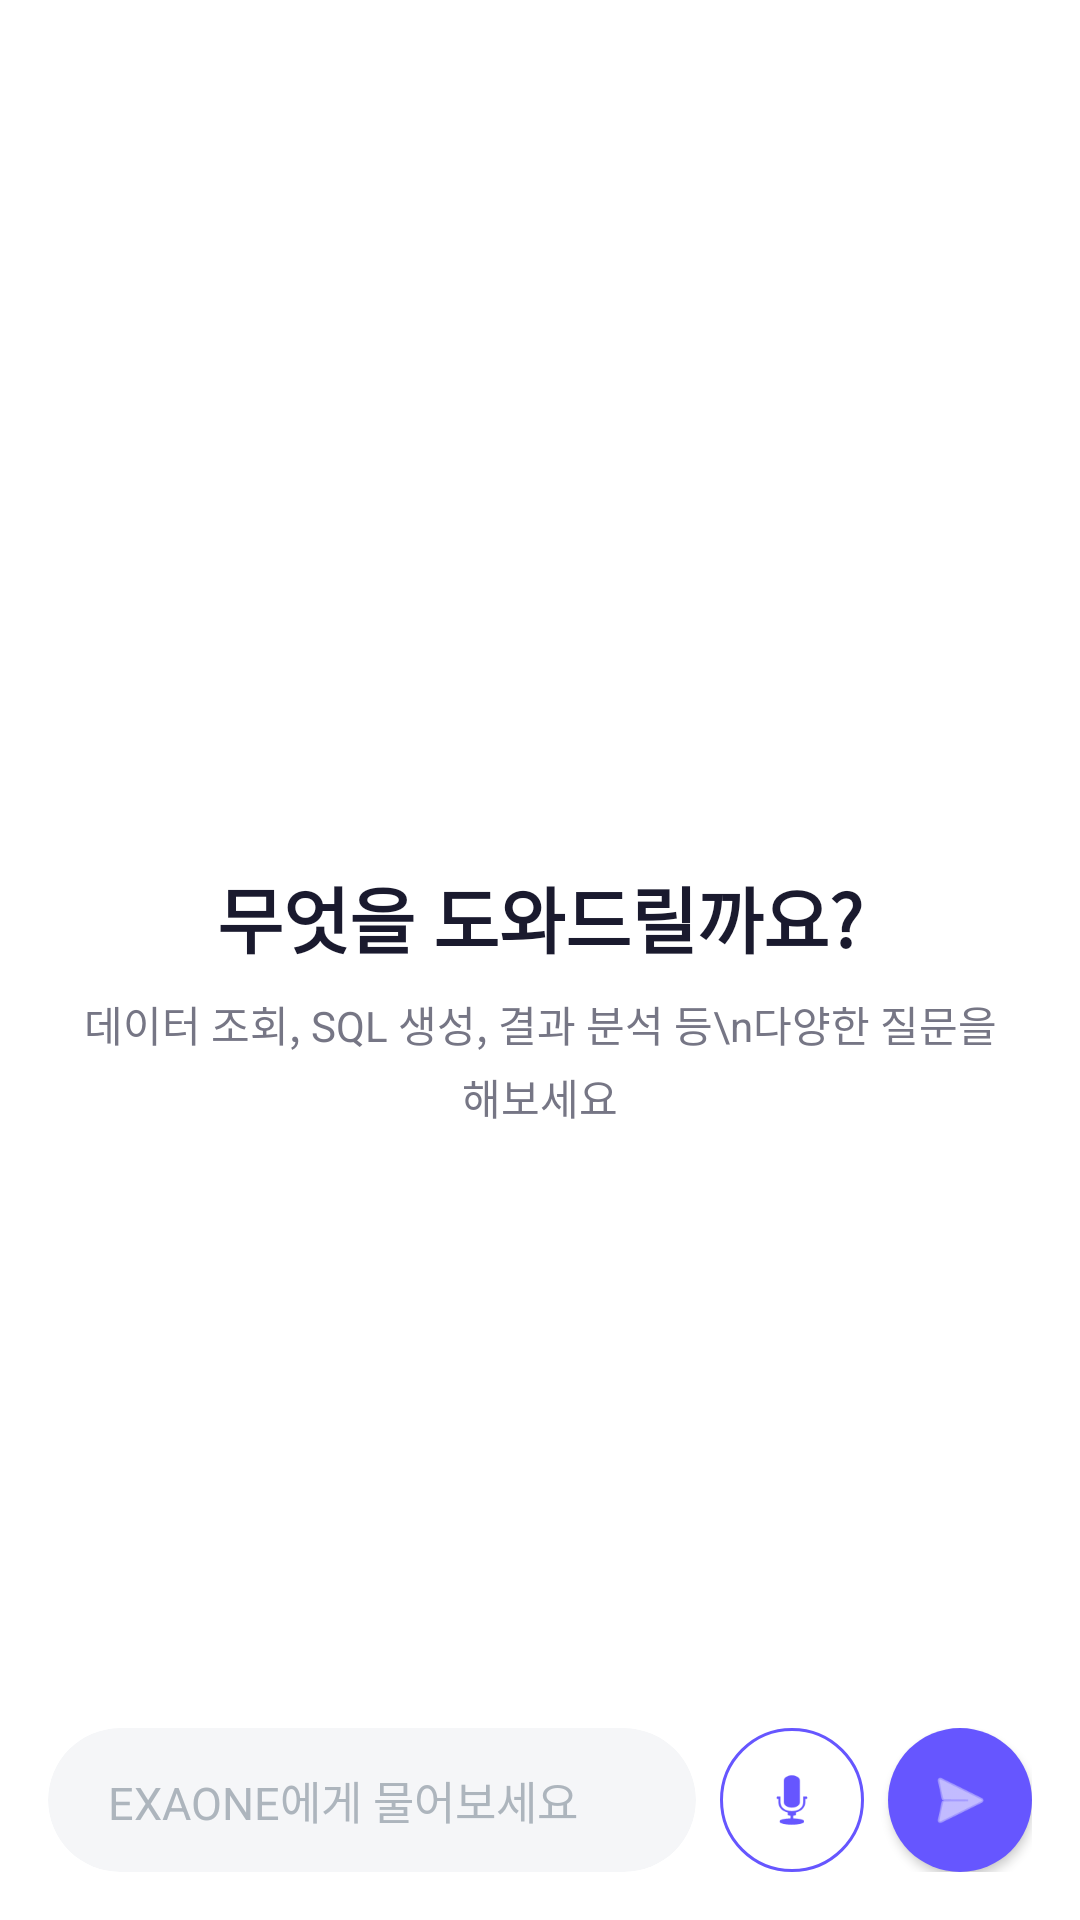

Icon click points for this 1080px×1920px phone screenshot, format (x=x, y=y):
send: (x=960, y=1800)
speak now: (x=792, y=1800)
